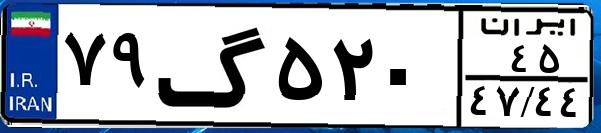0: (385, 28, 445, 110)
2: (330, 28, 385, 110)
4: (560, 70, 590, 125), (508, 27, 537, 80), (470, 70, 495, 125), (535, 70, 560, 125)
5: (270, 28, 330, 110), (537, 27, 568, 80)
7: (57, 26, 110, 100), (495, 70, 520, 125)
9: (110, 28, 156, 98)
گ: (156, 12, 270, 120)
